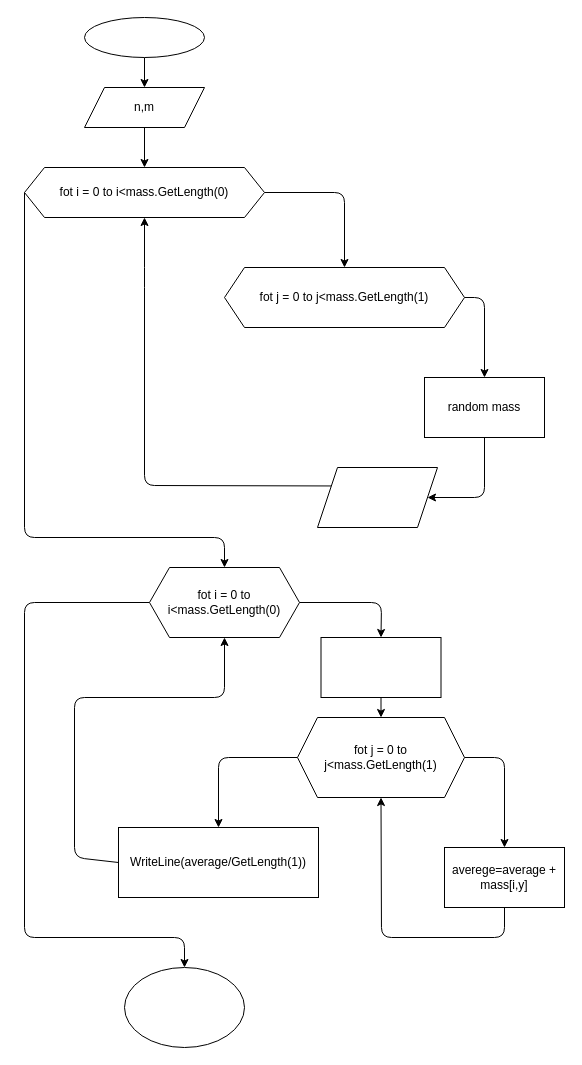
This 582x1065 diagram has some shape labels left out. Here are the shapes that lost their labels. From the top down, the centre of each, then its label:
At [144,37]: "start".
At [377,497]: "mass".
At [380,667]: "average = 0".
At [184,1007]: "stop".
